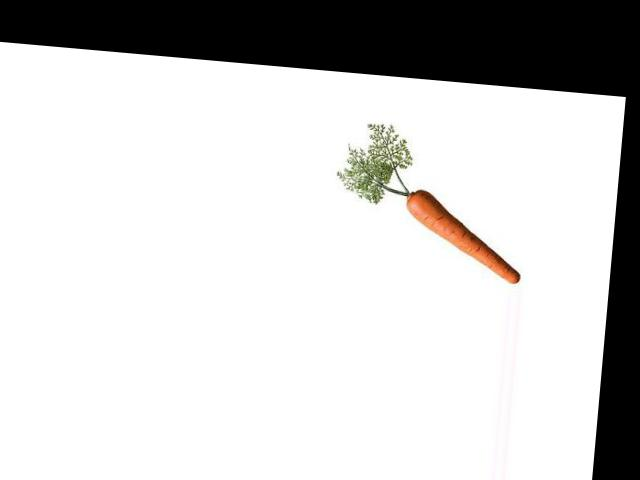carrot: (396, 184, 530, 284)
